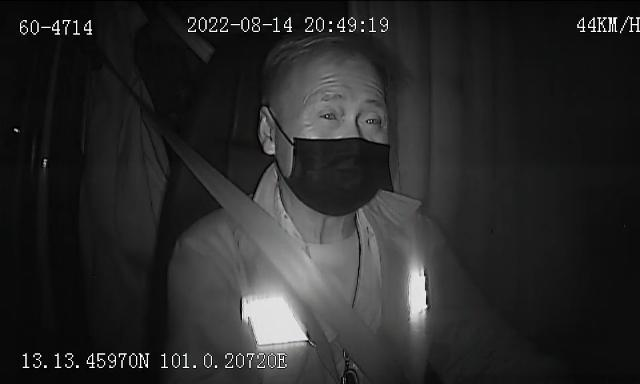SafeDriving: (354, 105, 390, 132), (313, 103, 345, 124)
Seatbelt: (158, 125, 392, 384)
